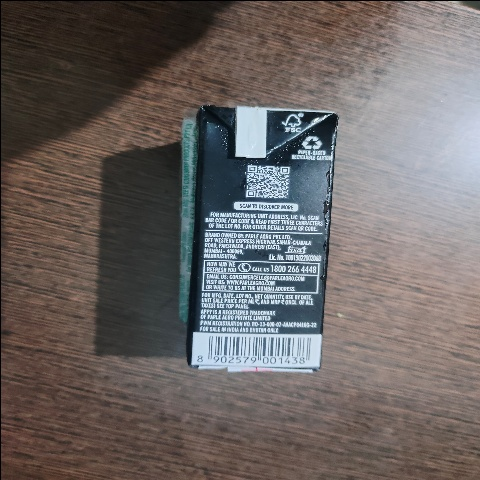appy: (150, 90, 351, 387)
